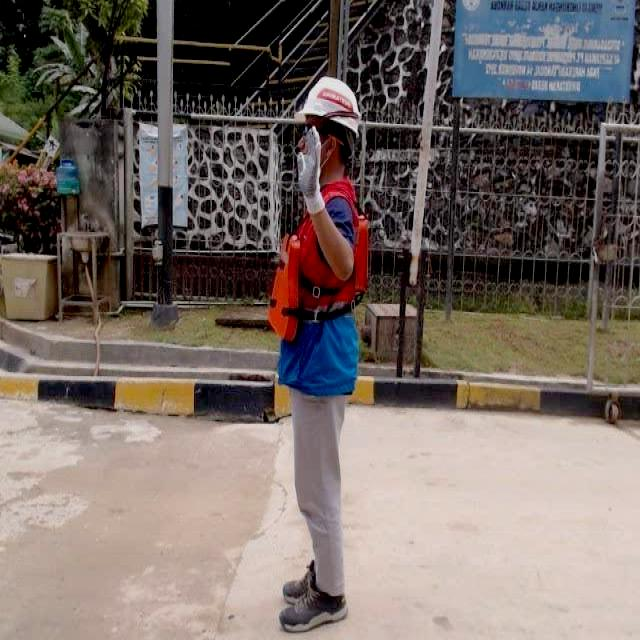vest: (261, 178, 372, 355)
